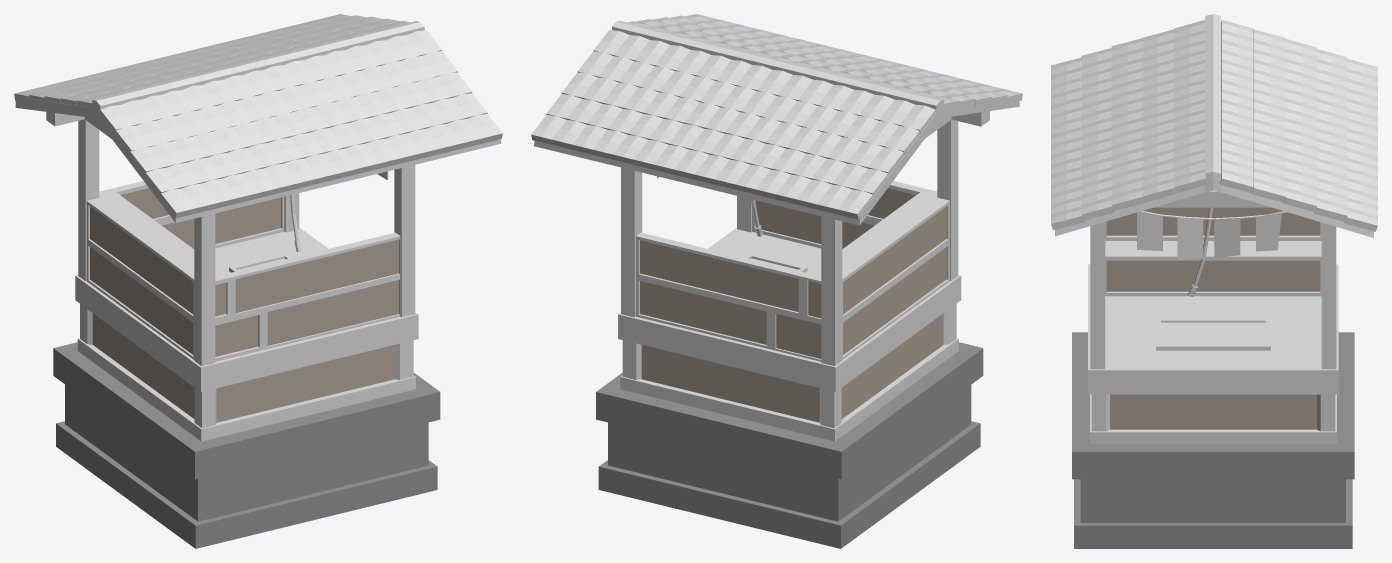
The model's file is shrine.fbx.
3 renders of one model, left to right at view 1: azimuth 30°, elevation 25°; view 2: azimuth 150°, elevation 25°; view 3: azimuth 270°, elevation 25°, orthographic.
Visible parts, largest first — view 1: Cube.009; view 2: Cube.009; view 3: Cube.009.
Boxes of the visible parts, left/top/right/bottom form: Cube.009: left=14, top=14, right=502, bottom=548; Cube.009: left=531, top=14, right=1022, bottom=548; Cube.009: left=1051, top=14, right=1377, bottom=548.
Size of the model in its own units: 195 by 230 by 169.
